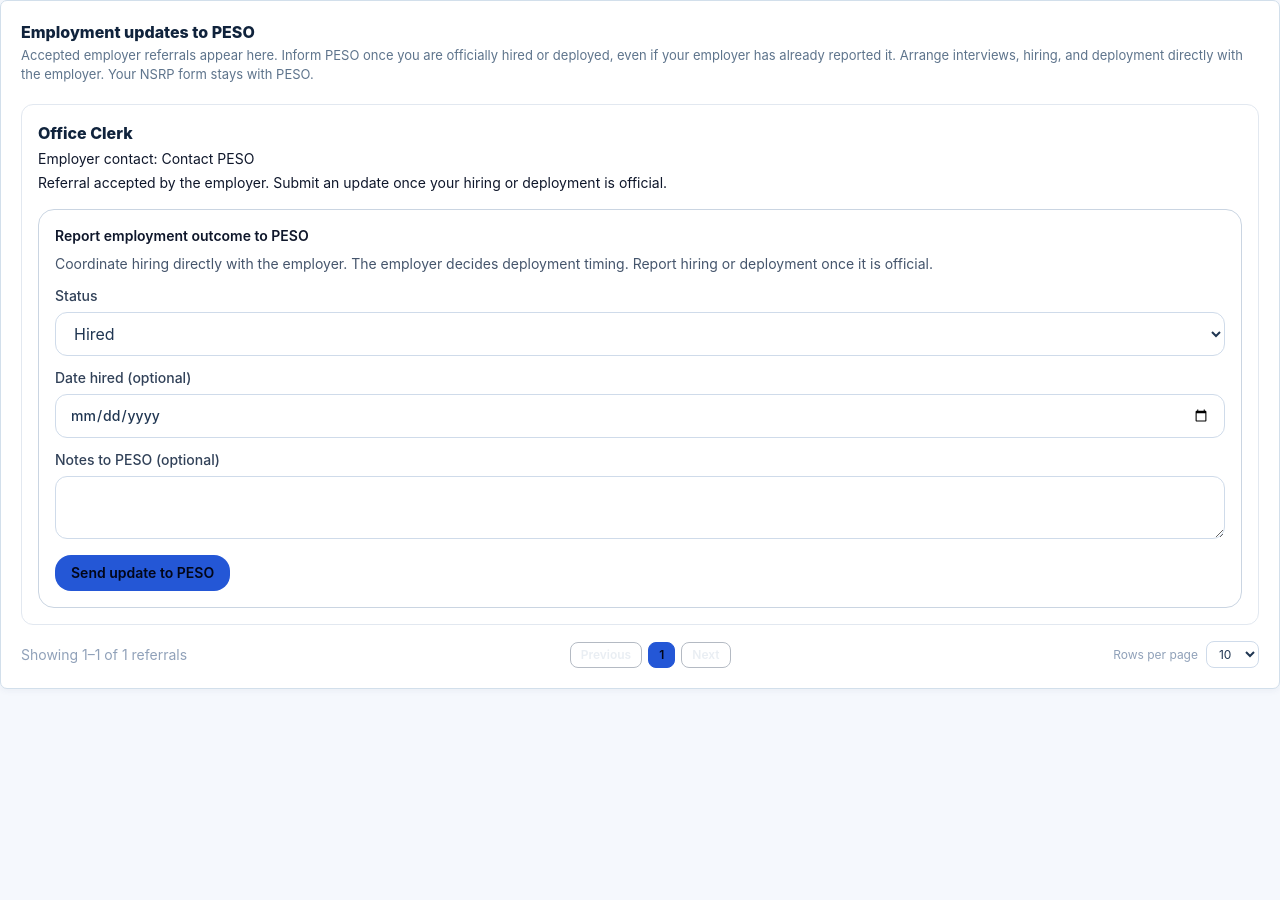
employment updates › keeps the applicant form and entered values when submission fails
The image size is (1280, 900).
Step 1. Type "Keep my note" into the text box labelled "Notes to PESO (optional)" → (640, 508), box [55,476,1225,539]
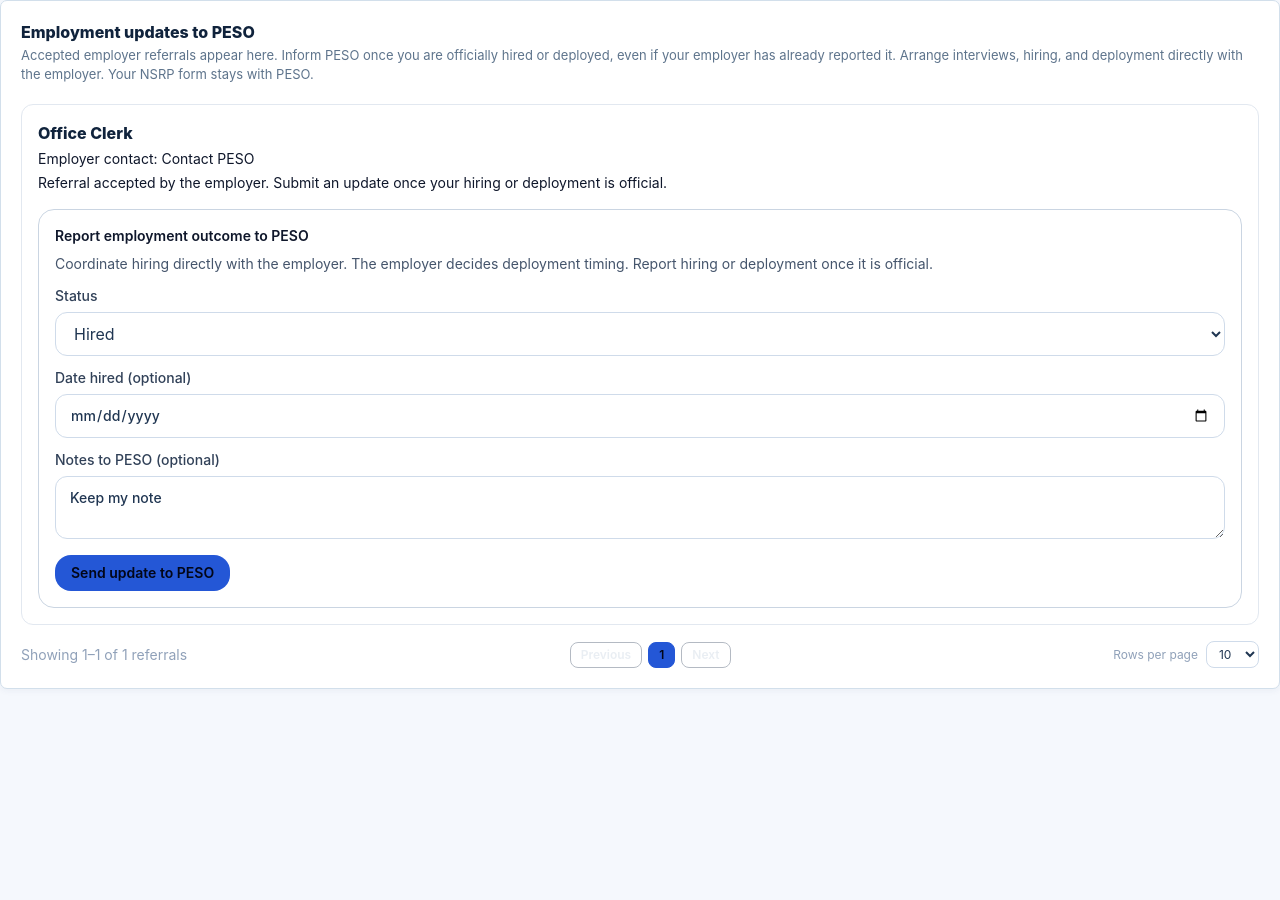
Step 2. Click the button "Send update to PESO" → (143, 573), box [55,555,230,591]
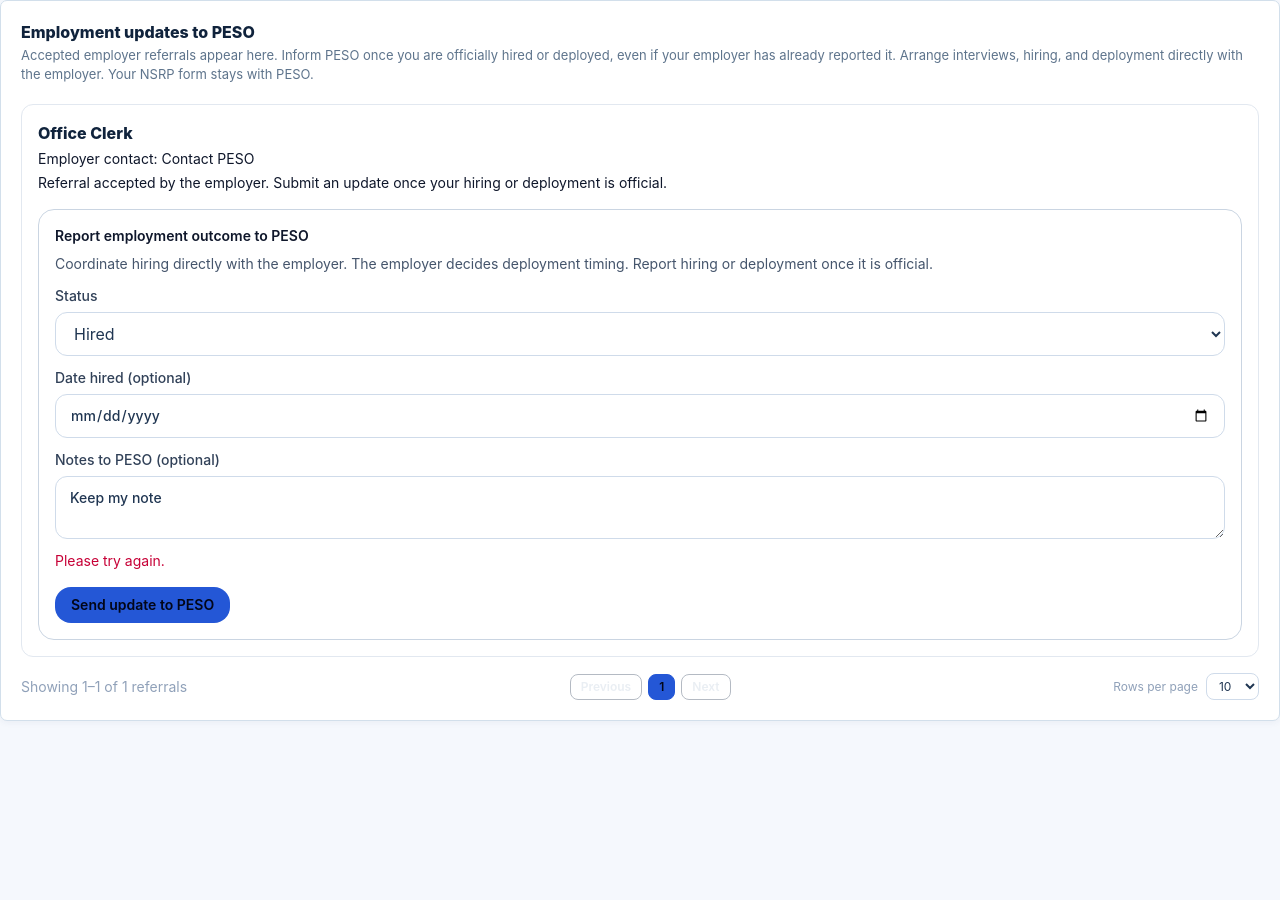
Result: the text "Please try again." is shown at [55,552,165,569]
